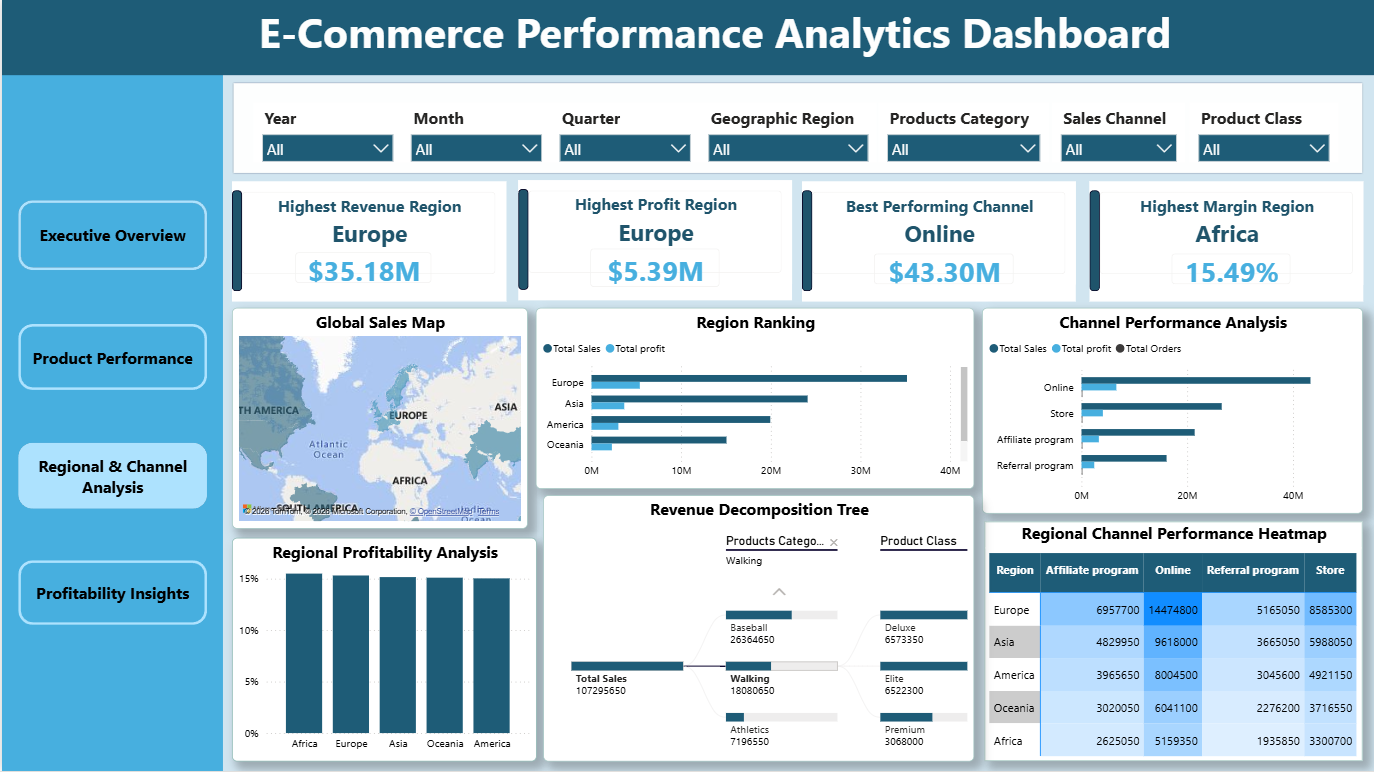

What the dashboard file says about the page in this screenshot:
{"tool":"powerbi","page":{"name":"Regional & Channel Analysis","canvas":[1600,900],"ordinal":2},"visuals":[{"type":"group","id":"g1","title":"Group 1","box":[0,0,257.9,900.3],"z":0},{"type":"shape","box":[0,0,257.9,900.3],"z":0,"group":"g1"},{"type":"shape","box":[0,0,1600,89],"z":1000,"group":"g4"},{"type":"group","id":"g2","title":"Group 2","box":[267.6,211,1319,142.4],"z":1000},{"type":"actionButton","title":"ggggg","box":[19.6,235.3,220.2,81.4],"z":1000,"group":"g1"},{"type":"group","id":"g3","title":"Group 3","box":[267.6,96,1319.5,108.6],"z":2000},{"type":"shape","box":[267.6,96,1319.5,108.6],"z":2000,"group":"g3"},{"type":"actionButton","box":[19.6,378.5,220.2,76.9],"z":2000,"group":"g1"},{"type":"group","id":"g4","title":"Group 4","box":[0,0,1600,89],"z":3000},{"type":"textbox","box":[294.1,0,1109.9,89],"z":3000,"group":"g4"},{"type":"actionButton","box":[19.6,517.3,220.2,76.9],"z":3000,"group":"g1"},{"type":"filledMap","title":"Global Sales Map","fields":{"Category":["Region.Country/Territory"],"Series":["Region.Geographic Region"]},"box":[267.6,360.2,344.8,257.3],"z":4000},{"type":"actionButton","box":[19.6,654.5,220.2,75.4],"z":4000,"group":"g1"},{"type":"clusteredBarChart","title":"Region Ranking","fields":{"Category":["Region.Geographic Region"],"Y":["Measure table.Total Sales","Measure table.Total profit"]},"box":[622.6,360.2,511.2,211],"z":5000},{"type":"clusteredBarChart","title":"Channel Performance Analysis","fields":{"Category":["Sales Channel.Sales Channel"],"Y":["Measure table.Total Sales","Measure table.Total profit","Measure table.Total Orders"]},"box":[1142.4,360.2,444.3,240],"z":6000},{"type":"pivotTable","title":"Regional Channel Performance Heatmap","fields":{"Rows":["Region.Geographic Region"],"Columns":["Sales Channel.Sales Channel"],"Values":["Measure table.Total Sales"]},"box":[1145.8,608.9,440.8,279.6],"z":7000},{"type":"slicer","fields":{"Values":["Date.Year"]},"box":[291.7,120.8,173.4,69.4],"z":8000,"group":"g3"},{"type":"clusteredColumnChart","title":"Regional Profitability Analysis","fields":{"Category":["Region.Geographic Region"],"Y":["Measure table.Profit Margin %"]},"box":[267.6,627.8,355.1,260.7],"z":8000},{"type":"slicer","fields":{"Values":["Region.Geographic Region"]},"box":[812,120.8,206.6,69.4],"z":9000,"group":"g3"},{"type":"decompositionTreeVisual","title":"Revenue Decomposition Tree","fields":{"Analyze":["Measure table.Total Sales"],"ExplainBy":["Product Category.Products Category","Product Class.Product Class","Region.Geographic Region","Products.Product Name"]},"box":[631.2,578,502.6,310.5],"z":9000},{"type":"slicer","fields":{"Values":["Date.Quarter No"]},"box":[638.6,120.8,173.4,69.4],"z":10000,"group":"g3"},{"type":"slicer","fields":{"Values":["Date.Month name"]},"box":[465.2,120.8,173.4,69.4],"z":11000,"group":"g3"},{"type":"slicer","fields":{"Values":["Sales Details.Sales Channel"]},"box":[1223.7,120.8,155.3,69.4],"z":12000,"group":"g3"},{"type":"slicer","fields":{"Values":["Products.Products Category"]},"box":[1021.7,120.8,199.1,69.4],"z":13000,"group":"g3"},{"type":"slicer","fields":{"Values":["Products.Product Class"]},"box":[1383.6,120.8,173.4,69.4],"z":14000,"group":"g3"},{"type":"group","id":"g5","title":"Group 5","box":[267.6,212.5,319.7,140.2],"z":15000,"group":"g2"},{"type":"group","id":"g6","title":"Group 5","box":[600.9,211,319,142.2],"z":16000,"group":"g2"},{"type":"group","id":"g7","title":"Group 5","box":[932.7,212.5,319,140.2],"z":17000,"group":"g2"},{"type":"group","id":"g8","title":"Group 5","box":[1267.4,212.5,319,140.2],"z":18000,"group":"g2"},{"type":"cardVisual","fields":{"Data":["Measure table.Highest Profit Region"]},"box":[600.9,211,319,140],"z":19000,"group":"g6"},{"type":"cardVisual","fields":{"Data":["Measure table.Highest Revenue Region"]},"box":[267.6,212.5,319.7,140.2],"z":19000,"group":"g5"},{"type":"cardVisual","fields":{"Data":["Measure table.Best Performing Channel"]},"box":[932.7,212.5,319,140.2],"z":19000,"group":"g7"},{"type":"cardVisual","fields":{"Data":["Measure table.Highest Margin Region"]},"box":[1267.4,212.5,319,140.2],"z":19000,"group":"g8"},{"type":"cardVisual","fields":{"Data":["Measure table.Highest Profit Region Value"]},"box":[668.4,273.3,185.5,79.9],"z":24000,"group":"g6"},{"type":"cardVisual","fields":{"Data":["Measure table.Highest Revenue Region Value"]},"box":[324.3,277.4,193.8,70.3],"z":24000,"group":"g5"},{"type":"cardVisual","fields":{"Data":["Measure table.Best Channel Revenue"]},"box":[999.6,279.1,197.3,70.3],"z":24000,"group":"g7"},{"type":"cardVisual","fields":{"Data":["Measure table.Highest Margin Region Value"]},"box":[1346.7,279.1,173.2,70.3],"z":24000,"group":"g8"},{"type":"shape","box":[600.9,221.6,12,117.6],"z":24500,"group":"g6"},{"type":"shape","box":[267.6,223.1,11.8,117.6],"z":24500,"group":"g5"},{"type":"shape","box":[932.7,223.1,12.1,117.6],"z":24500,"group":"g7"},{"type":"shape","box":[1267.4,223.1,12.1,117.6],"z":24500,"group":"g8"}]}

Visuals, with their boxes in screenshot pixels (x1, y1, x2, y2), scaled from the page's 1600x900 canvas onto the 1374x772 screenshot:
"Group 1" group: region(0, 0, 221, 771)
shape: region(0, 0, 221, 771)
shape: region(0, 0, 1373, 76)
"Group 2" group: region(230, 181, 1362, 303)
"ggggg" actionButton: region(17, 202, 206, 272)
"Group 3" group: region(230, 82, 1363, 176)
shape: region(230, 82, 1363, 176)
actionButton: region(17, 325, 206, 391)
"Group 4" group: region(0, 0, 1373, 76)
textbox: region(253, 0, 1206, 76)
actionButton: region(17, 444, 206, 510)
"Global Sales Map" filledMap: region(230, 309, 526, 530)
actionButton: region(17, 561, 206, 626)
"Region Ranking" clusteredBarChart: region(535, 309, 974, 490)
"Channel Performance Analysis" clusteredBarChart: region(981, 309, 1363, 515)
"Regional Channel Performance Heatmap" pivotTable: region(984, 522, 1362, 762)
slicer - Date.Year: region(250, 104, 399, 163)
"Regional Profitability Analysis" clusteredColumnChart: region(230, 539, 535, 762)
slicer - Region.Geographic Region: region(697, 104, 875, 163)
"Revenue Decomposition Tree" decompositionTreeVisual: region(542, 496, 974, 762)
slicer - Date.Quarter No: region(548, 104, 697, 163)
slicer - Date.Month name: region(399, 104, 548, 163)
slicer - Sales Details.Sales Channel: region(1051, 104, 1184, 163)
slicer - Products.Products Category: region(877, 104, 1048, 163)
slicer - Products.Product Class: region(1188, 104, 1337, 163)
"Group 5" group: region(230, 182, 504, 303)
"Group 5" group: region(516, 181, 790, 303)
"Group 5" group: region(801, 182, 1075, 303)
"Group 5" group: region(1088, 182, 1362, 303)
cardVisual - Measure table.Highest Profit Region: region(516, 181, 790, 301)
cardVisual - Measure table.Highest Revenue Region: region(230, 182, 504, 303)
cardVisual - Measure table.Best Performing Channel: region(801, 182, 1075, 303)
cardVisual - Measure table.Highest Margin Region: region(1088, 182, 1362, 303)
cardVisual - Measure table.Highest Profit Region Value: region(574, 234, 733, 303)
cardVisual - Measure table.Highest Revenue Region Value: region(278, 238, 445, 298)
cardVisual - Measure table.Best Channel Revenue: region(858, 239, 1028, 300)
cardVisual - Measure table.Highest Margin Region Value: region(1156, 239, 1305, 300)
shape: region(516, 190, 526, 291)
shape: region(230, 191, 240, 292)
shape: region(801, 191, 811, 292)
shape: region(1088, 191, 1099, 292)
